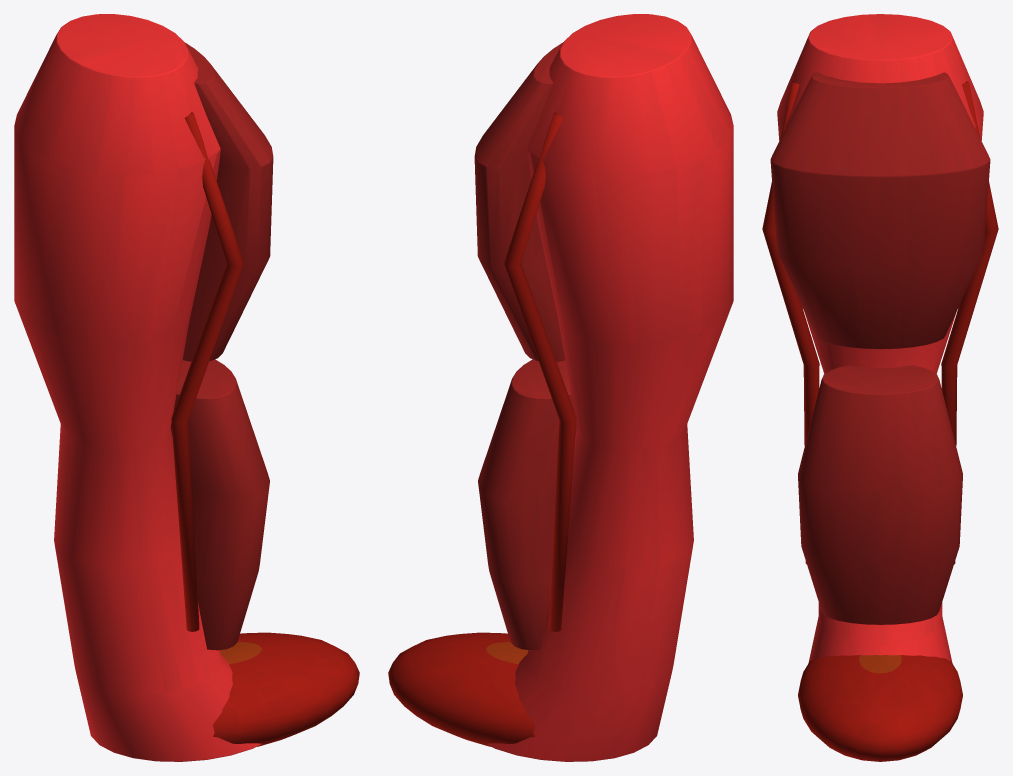
The model's file is SM_RV_GuardianLeg.fbx.
3 views of the same model, side by side, from view 1: azimuth 30°, elevation 25°; view 2: azimuth 150°, elevation 25°; view 3: azimuth 270°, elevation 25° (orthographic). The views are drawn at different scales.
Parts seen in each view (by area): view 1: SM_RV_GuardianLeg; view 2: SM_RV_GuardianLeg; view 3: SM_RV_GuardianLeg.
Boxes of the visible parts, box(x1,y1,x2,y2) form: SM_RV_GuardianLeg: box(14, 14, 359, 761); SM_RV_GuardianLeg: box(388, 14, 733, 761); SM_RV_GuardianLeg: box(762, 14, 998, 761).
Bounding box in the file's own units: 34.31 × 49 × 104.
